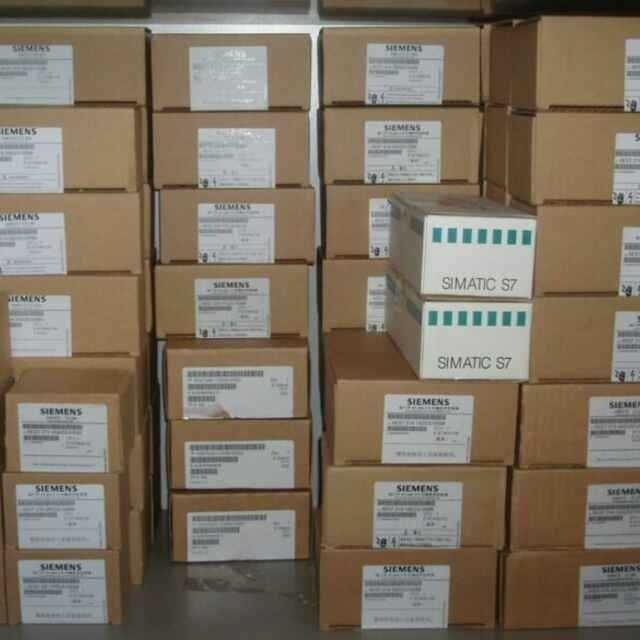box: (323, 327, 518, 466), (319, 432, 506, 550), (315, 522, 496, 632), (386, 256, 533, 382), (389, 193, 536, 300), (1, 345, 146, 447), (317, 100, 484, 185), (510, 192, 640, 299), (5, 368, 135, 474), (152, 106, 310, 190), (317, 26, 480, 107), (1, 270, 146, 358), (159, 184, 316, 265), (0, 188, 144, 276), (320, 179, 480, 258), (154, 258, 310, 339), (0, 107, 143, 194), (508, 110, 640, 204), (150, 33, 311, 110), (0, 27, 153, 108), (510, 16, 640, 111), (166, 333, 308, 418), (3, 538, 132, 625), (504, 548, 640, 629), (509, 467, 640, 551), (1, 467, 130, 551), (168, 488, 311, 562), (517, 382, 640, 468), (530, 291, 640, 385), (169, 418, 310, 489), (316, 250, 389, 334), (490, 20, 524, 106), (486, 105, 510, 190), (128, 416, 148, 512), (130, 509, 144, 584), (479, 24, 492, 102), (487, 182, 511, 205)
